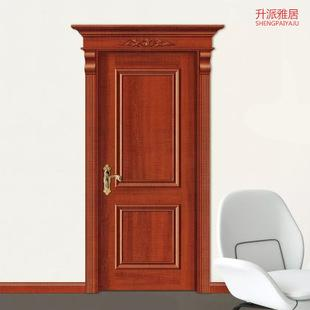door: (102, 52, 196, 289)
